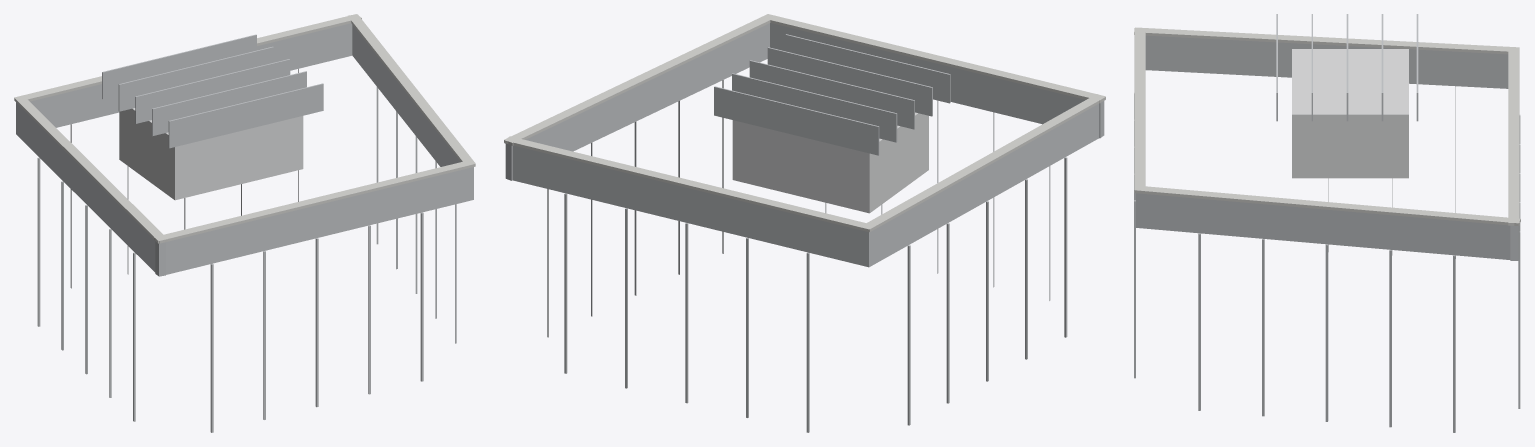
File: d12-magnet-glassbox-roof-plant.glb
3 renders of one model, left to right at view 1: azimuth 30°, elevation 25°; view 2: azimuth 150°, elevation 25°; view 3: azimuth 270°, elevation 25°, orthographic. The views are drawn at different scales.
Parts seen in each view (by area): view 1: INFERRED_plant.001; view 2: INFERRED_plant.001; view 3: INFERRED_plant.001.
Boxes of the visible parts, x1,y1,x2,y2 form: INFERRED_plant.001: (14,14,475,432); INFERRED_plant.001: (504,14,1105,432); INFERRED_plant.001: (1134,14,1520,432).
Size of the model in its own units: 11.89 by 7.6 by 9.92.
Materials: 1 (1 with a texture image).
